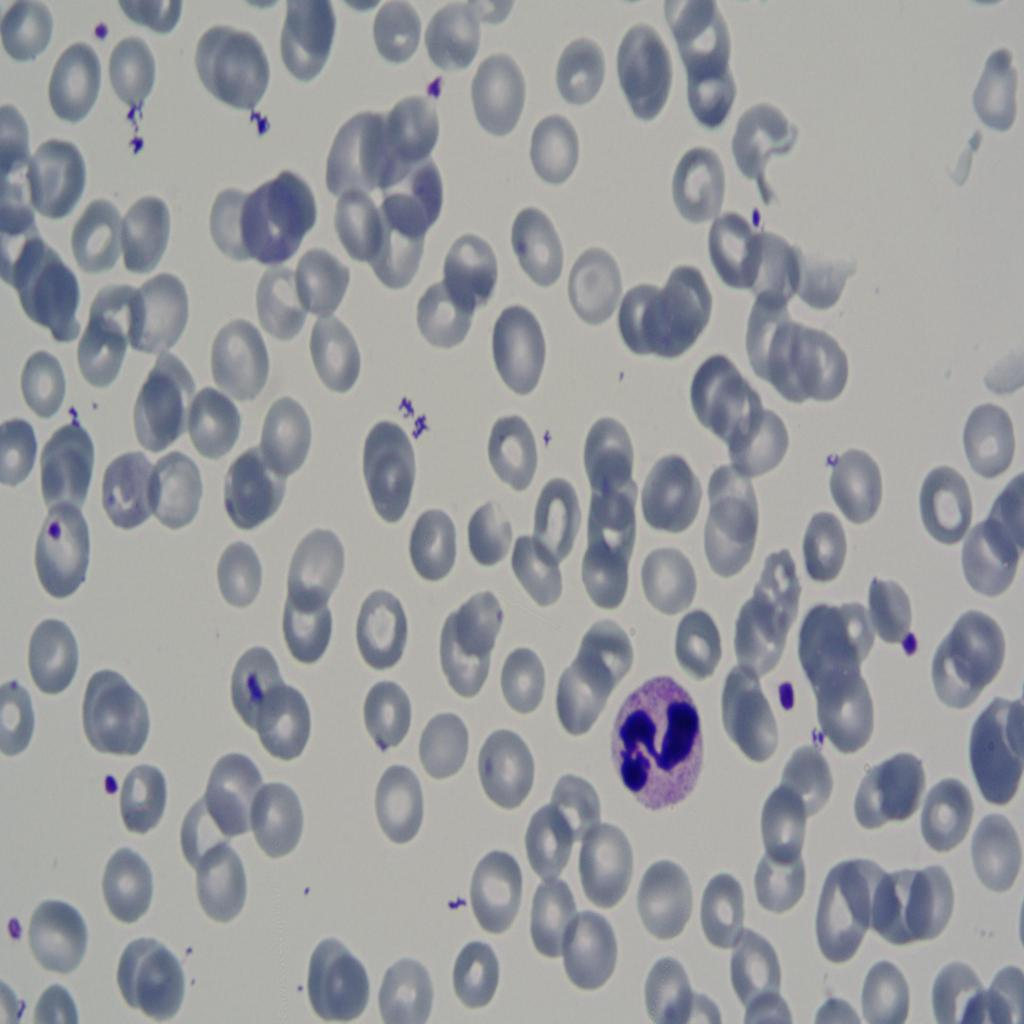Neutrofil: (605, 658, 711, 830)
Platelet: (766, 671, 801, 727), (0, 894, 31, 957), (238, 655, 266, 717), (898, 626, 927, 672), (91, 8, 119, 50), (422, 72, 449, 115), (98, 764, 118, 802), (747, 196, 765, 234), (46, 515, 62, 543)
